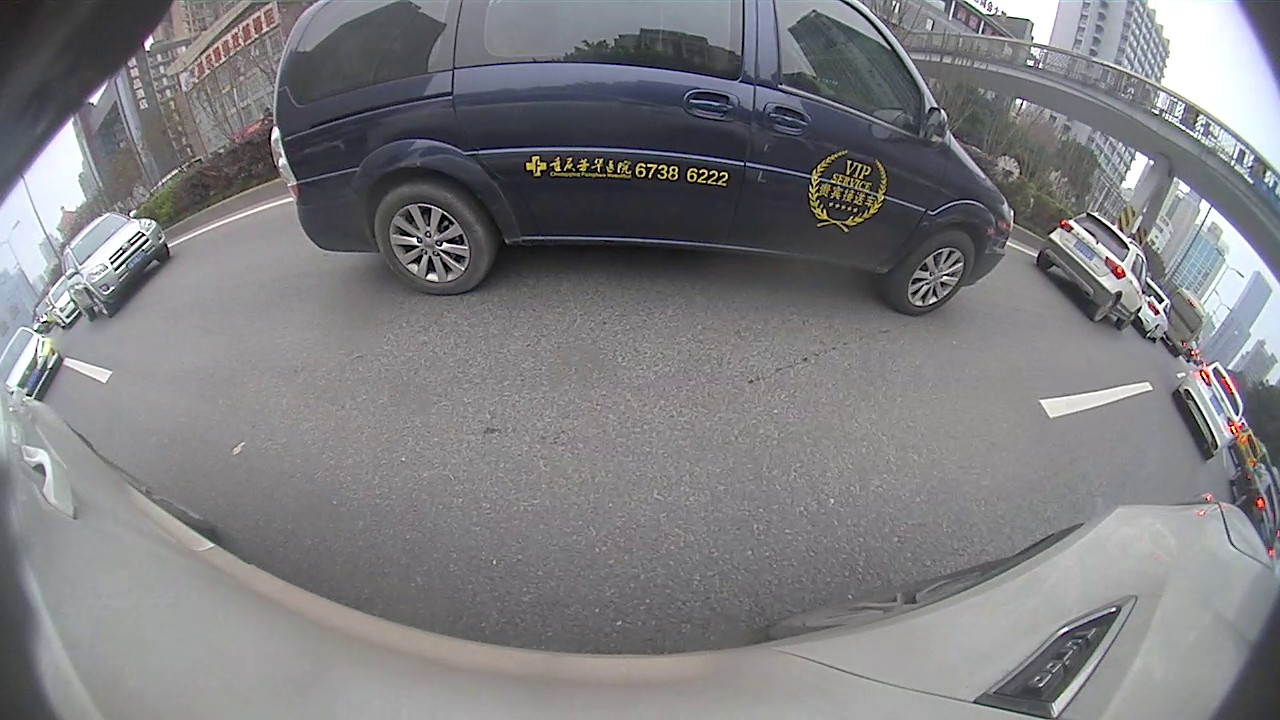car: (268, 1, 1014, 319), (1037, 211, 1151, 332), (60, 208, 171, 322), (1170, 364, 1248, 462)
front: (890, 234, 975, 315)
rear: (375, 185, 492, 297), (1092, 294, 1119, 323)
